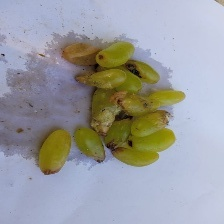grapes: (47, 0, 196, 196)
